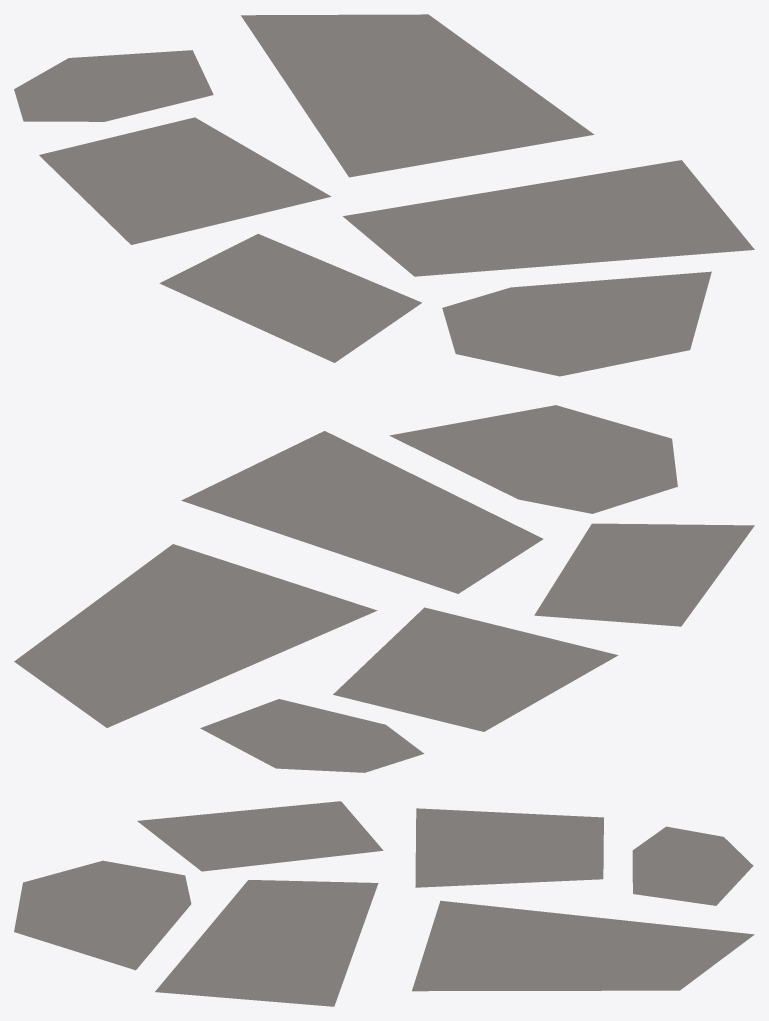
Rendered from SF_Env_Stonepath_02.fbx.
3 views of the same model, one above another, from view 1: azimuth 30°, elevation 25°; view 2: azimuth 150°, elevation 25°; view 3: azimuth 270°, elevation 25° (orthographic). The views are drawn at different scales.
Visible parts, largest first — view 1: SF_Env_Stonepath_02; view 2: SF_Env_Stonepath_02; view 3: SF_Env_Stonepath_02.
Part boxes in pixels (x1,y1,x2,y2): SF_Env_Stonepath_02: [14, 14, 754, 376]; SF_Env_Stonepath_02: [14, 405, 754, 772]; SF_Env_Stonepath_02: [14, 801, 754, 1006].
Bounding box in the file's own units: 3.18 × 0 × 4.84.
